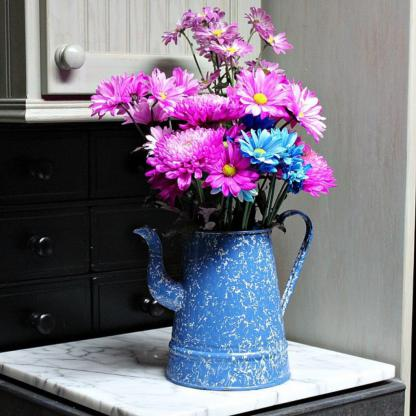vase: (133, 207, 313, 390)
